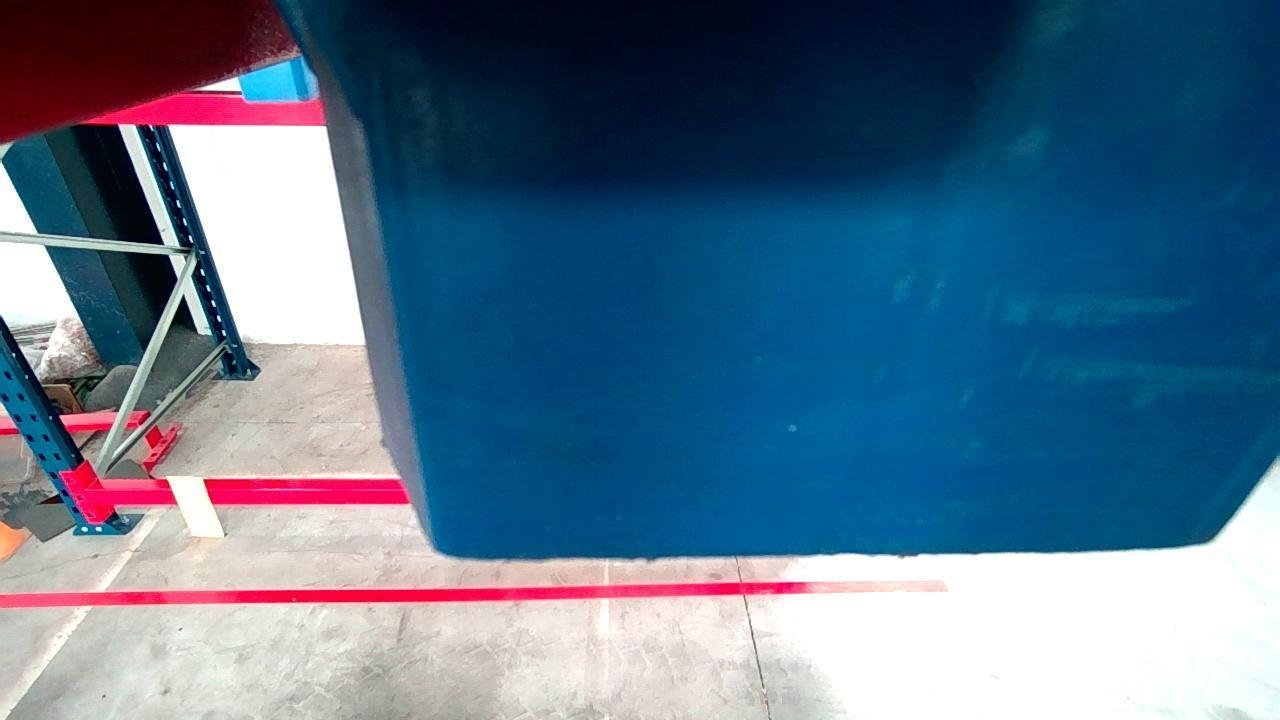h_rack: (79, 92, 332, 125), (83, 487, 409, 506)
orange_strip: (167, 476, 224, 535)
red_line: (0, 577, 948, 606)
